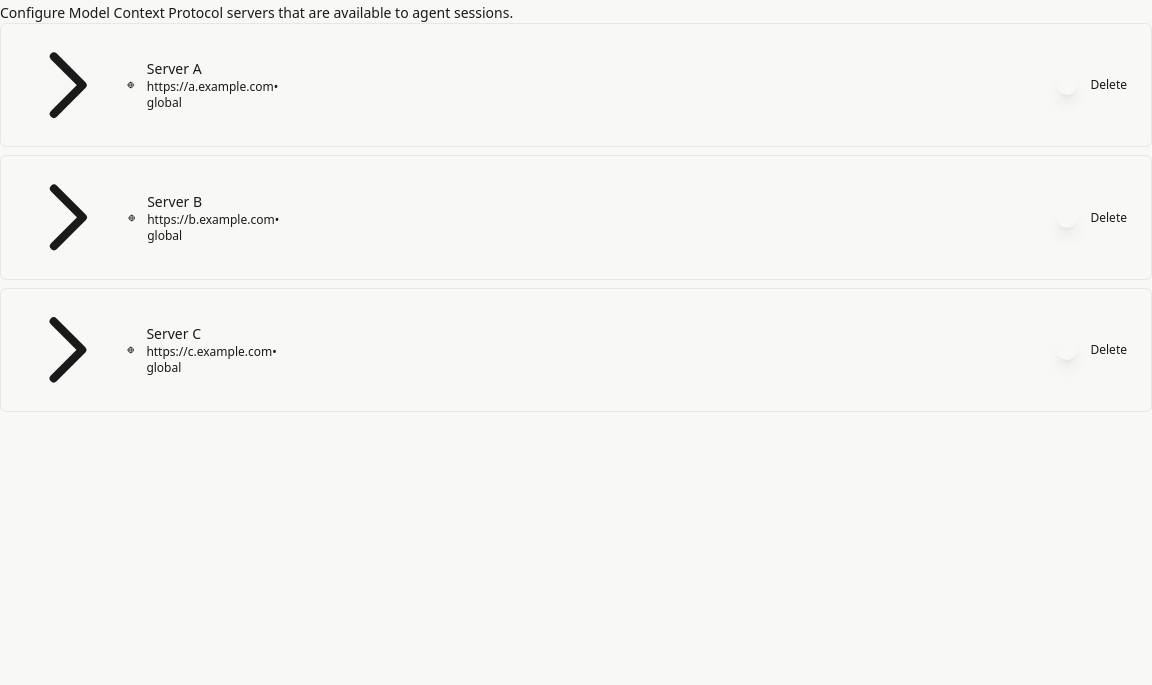
McpServersSettings › lists saved headers by name with their values hidden
The width and height of the screenshot is (1152, 685).
Click the button "Server C https://c.example.com• global": (121, 350) [17,301,225,399]
(page scrolled)
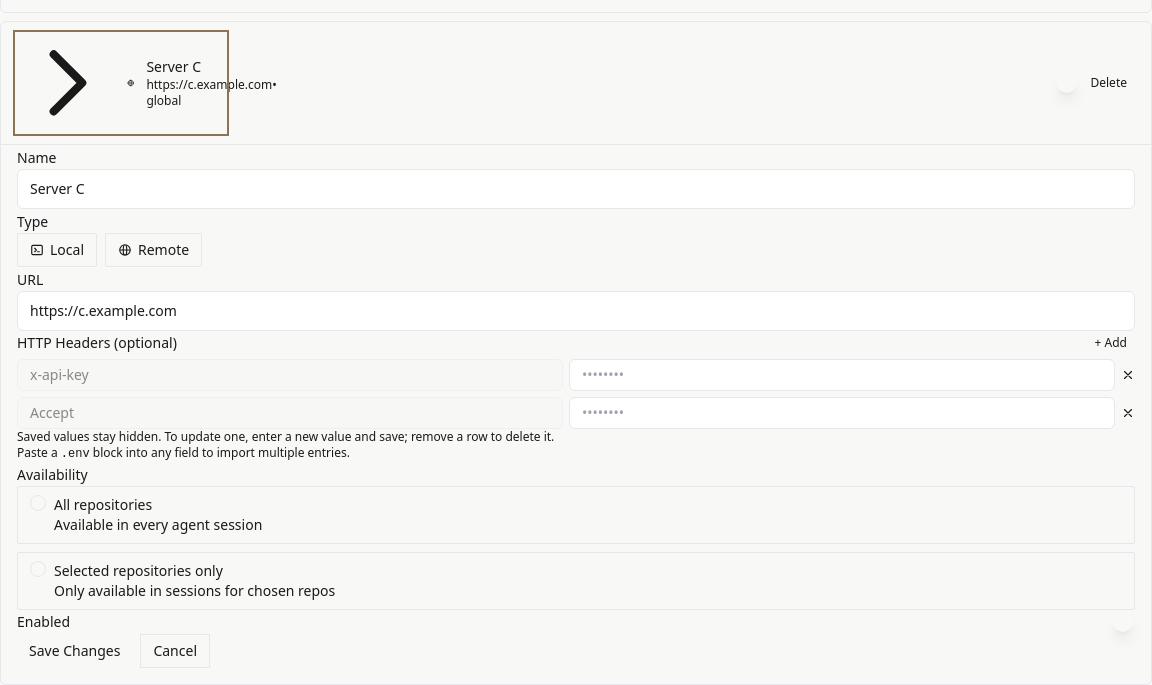
expect the 3rd field showing "x-api-key" is disabled: met, box [17,359,563,391]
expect the 4th field showing "Accept" is disabled: met, box [17,397,563,429]
expect the number of password fields with placeholder "••••••••" is 2: met, box [569,359,1115,391]; [569,397,1115,429]
